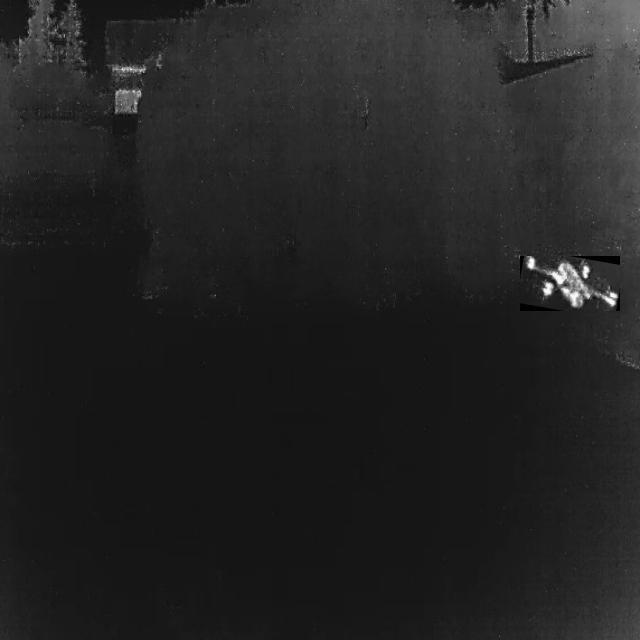drone: (520, 256, 620, 311)
